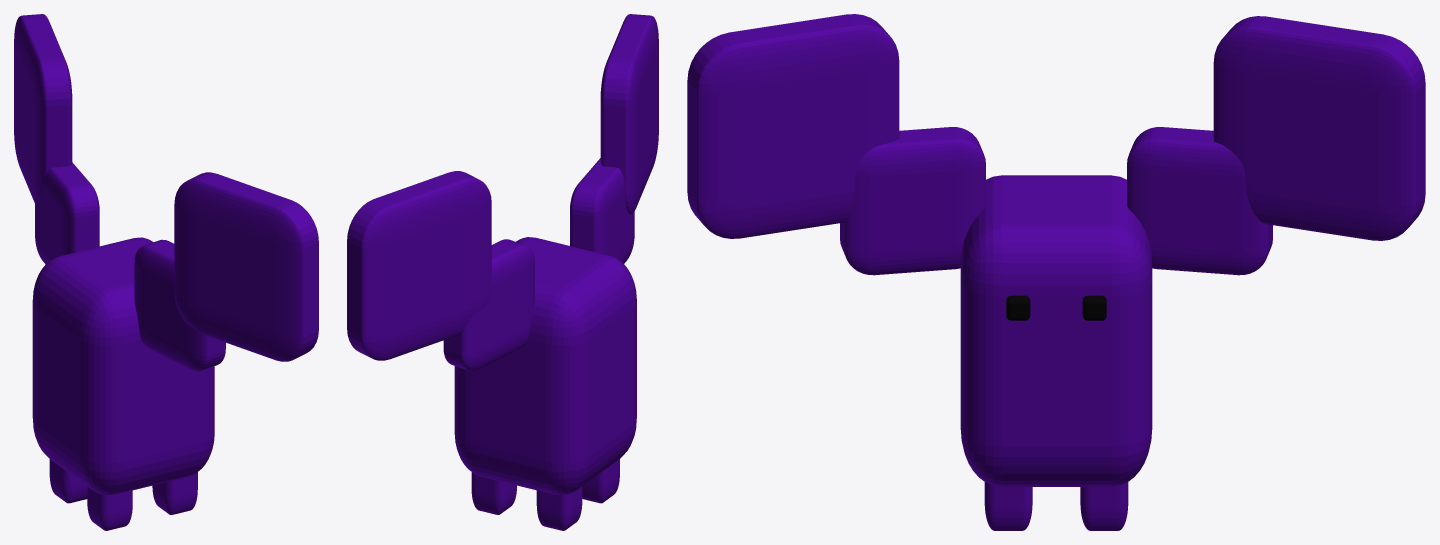
Rendered from Lombat.glb.
3 views of the same model, side by side, from view 1: azimuth 30°, elevation 25°; view 2: azimuth 150°, elevation 25°; view 3: azimuth 270°, elevation 25° (orthographic). The views are drawn at different scales.
Parts seen in each view (by area): view 1: Bat.001, Bat.009, Bat, Bat.008, Bat.010, Bat.002, Bat.003, Bat.004; view 2: Bat.001, Bat, Bat.009, Bat.010, Bat.008, Bat.004, Bat.005, Bat.002; view 3: Bat.001, Bat, Bat.009, Bat.008, Bat.010, Bat.003, Bat.005.
Boxes of the visible parts, bbox=[...] form: Bat.001: bbox=[32, 237, 214, 494]; Bat.009: bbox=[174, 172, 318, 361]; Bat: bbox=[14, 14, 72, 202]; Bat.008: bbox=[134, 239, 225, 371]; Bat.010: bbox=[35, 162, 99, 264]; Bat.002: bbox=[87, 486, 132, 530]; Bat.003: bbox=[152, 472, 197, 514]; Bat.004: bbox=[49, 459, 87, 503]; Bat.001: bbox=[454, 237, 636, 494]; Bat: bbox=[347, 171, 491, 360]; Bat.009: bbox=[600, 14, 658, 214]; Bat.010: bbox=[443, 239, 534, 371]; Bat.008: bbox=[570, 158, 634, 263]; Bat.004: bbox=[536, 486, 582, 530]; Bat.005: bbox=[471, 472, 516, 514]; Bat.002: bbox=[582, 459, 619, 503]; Bat.001: bbox=[960, 175, 1152, 486]; Bat: bbox=[1213, 16, 1425, 240]; Bat.009: bbox=[687, 14, 899, 238]; Bat.008: bbox=[840, 127, 985, 275]; Bat.010: bbox=[1127, 127, 1272, 275]; Bat.003: bbox=[984, 482, 1032, 530]; Bat.005: bbox=[1080, 482, 1128, 530].
Bounding box in the file's own units: 0.425 × 1.12 × 1.54.
